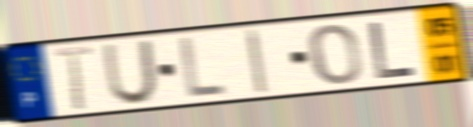I: (243, 26, 270, 97)
L: (366, 19, 419, 82), (177, 34, 227, 100)
O: (306, 22, 364, 87)
T: (51, 43, 96, 114)
U: (100, 38, 160, 107)
